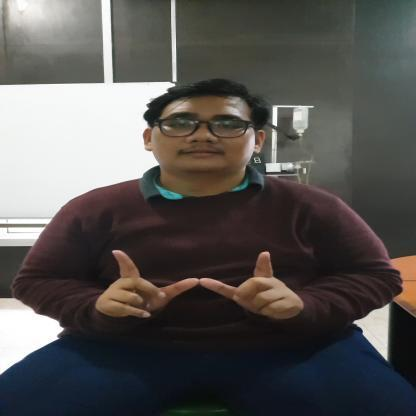W: (91, 249, 299, 320)
